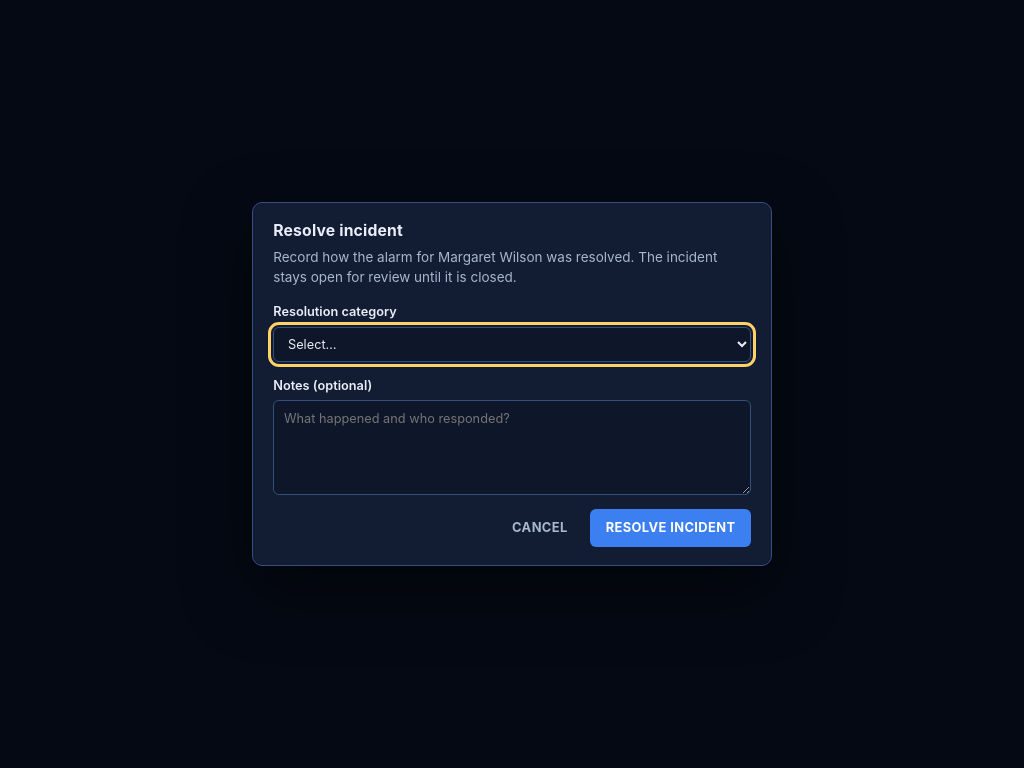
ResolveDialog › is an accessible modal that requires a category
Click the button "Resolve incident": [671, 528] box [590,509,751,547]
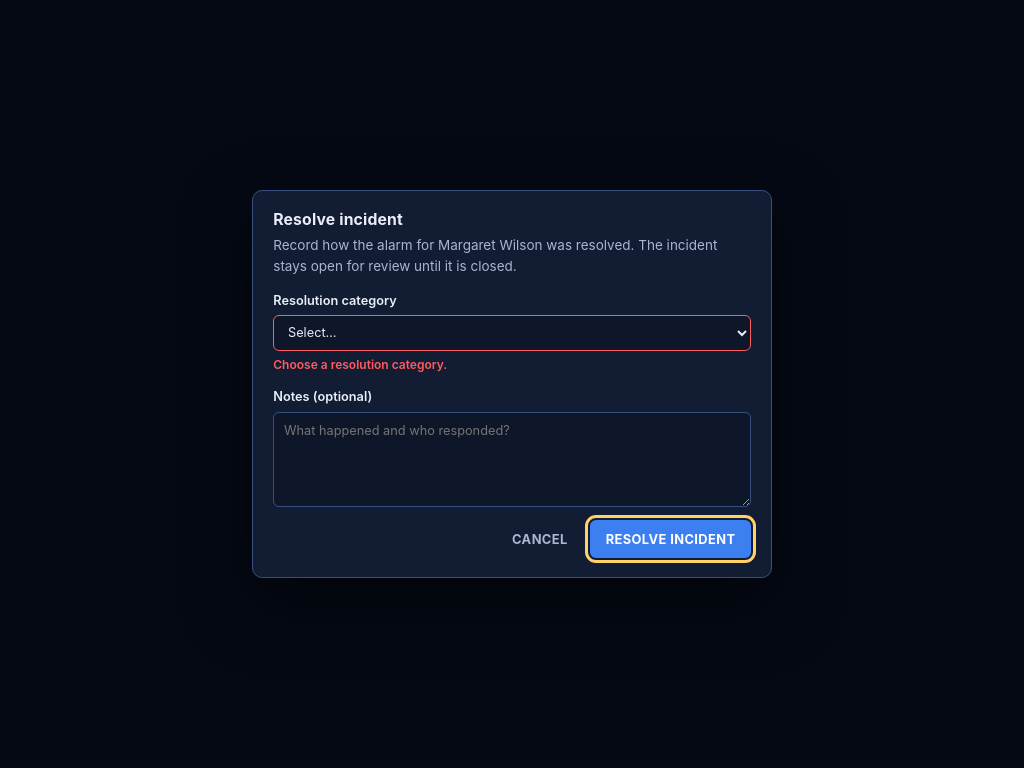
Expected: the text "Choose a resolution category." is shown, [273,357,447,372]
